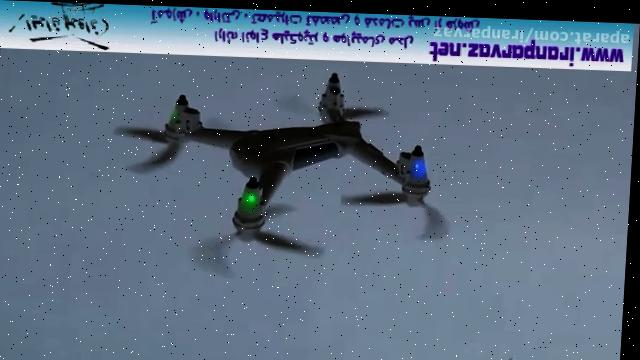drone: (101, 62, 468, 291)
